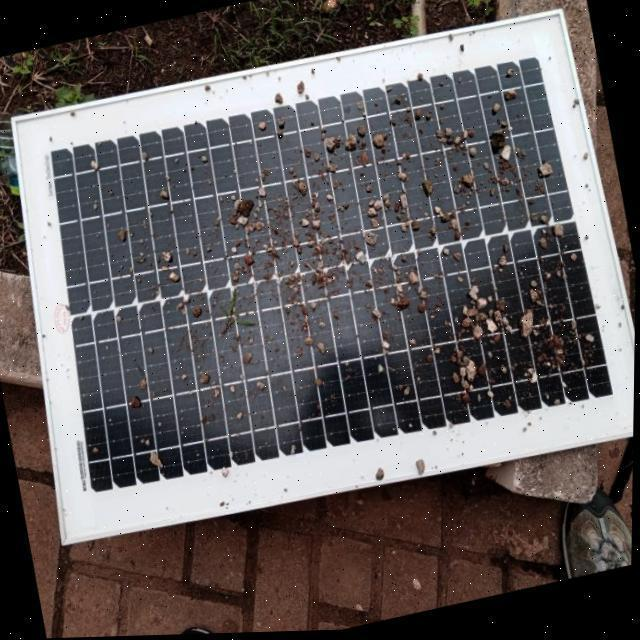Surface Contaminant: (26, 23, 631, 526)
